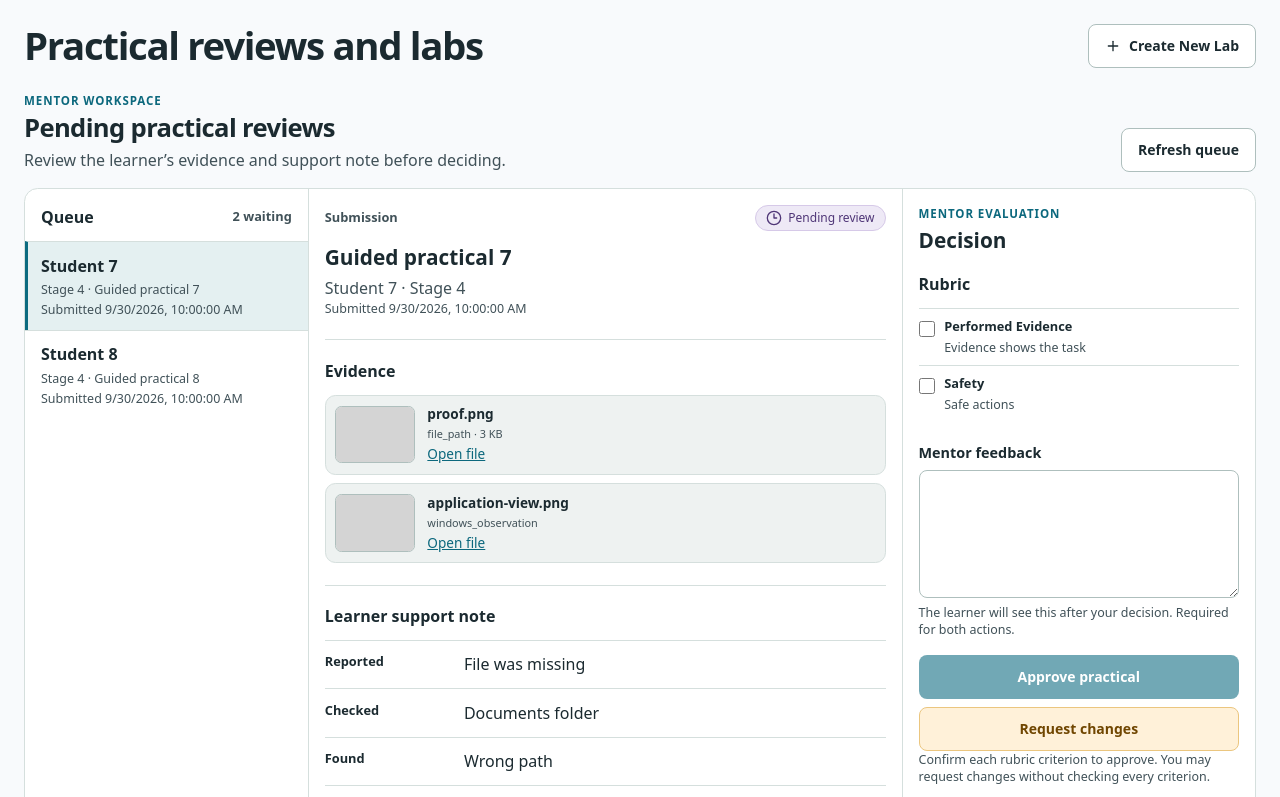
Scenario: mentor practical review workspace › keeps the selected learner fixed while a decision is in flight
Expected: the heading "Guided practical 7" is shown, [325, 243, 512, 271]
In the text box labelled "Mentor feedback": (1079, 534) [918, 470, 1239, 598], type "Feedback for seven"
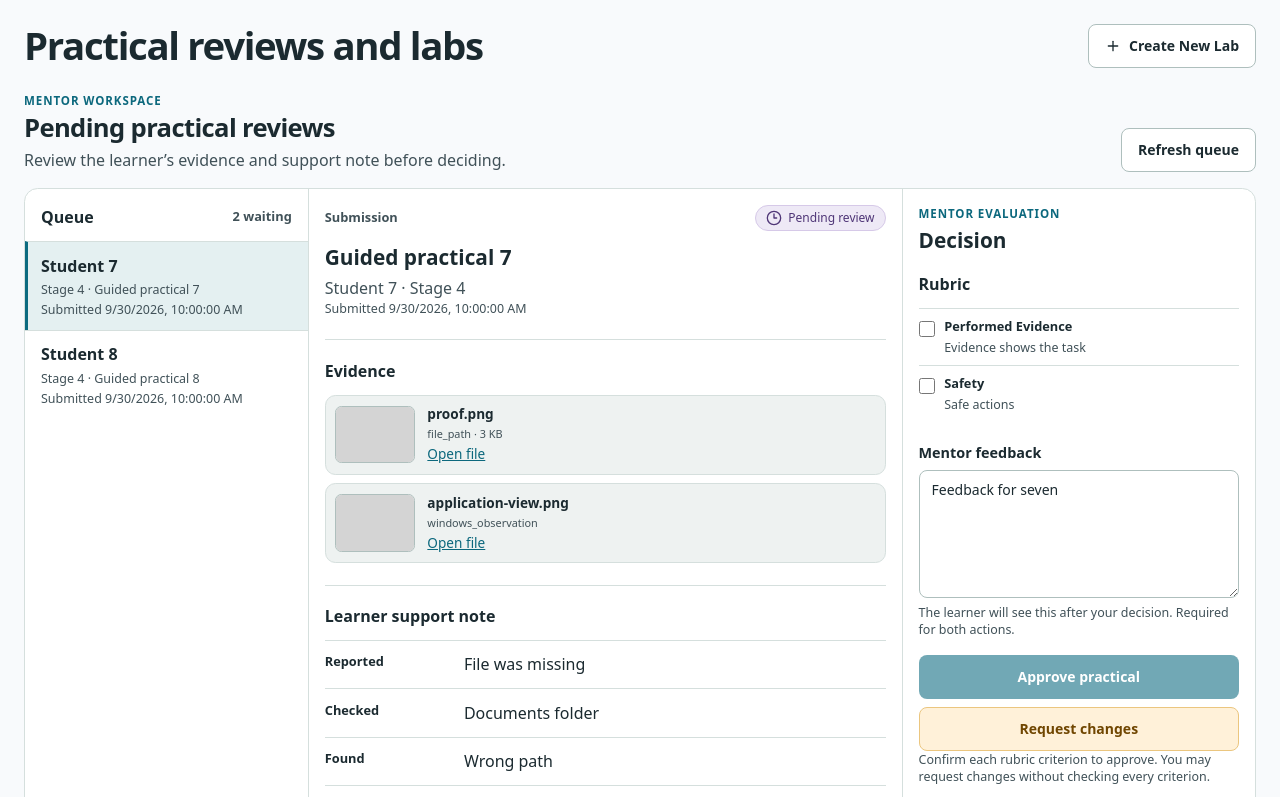
Click the button "Request changes": (1079, 729) [918, 707, 1239, 751]
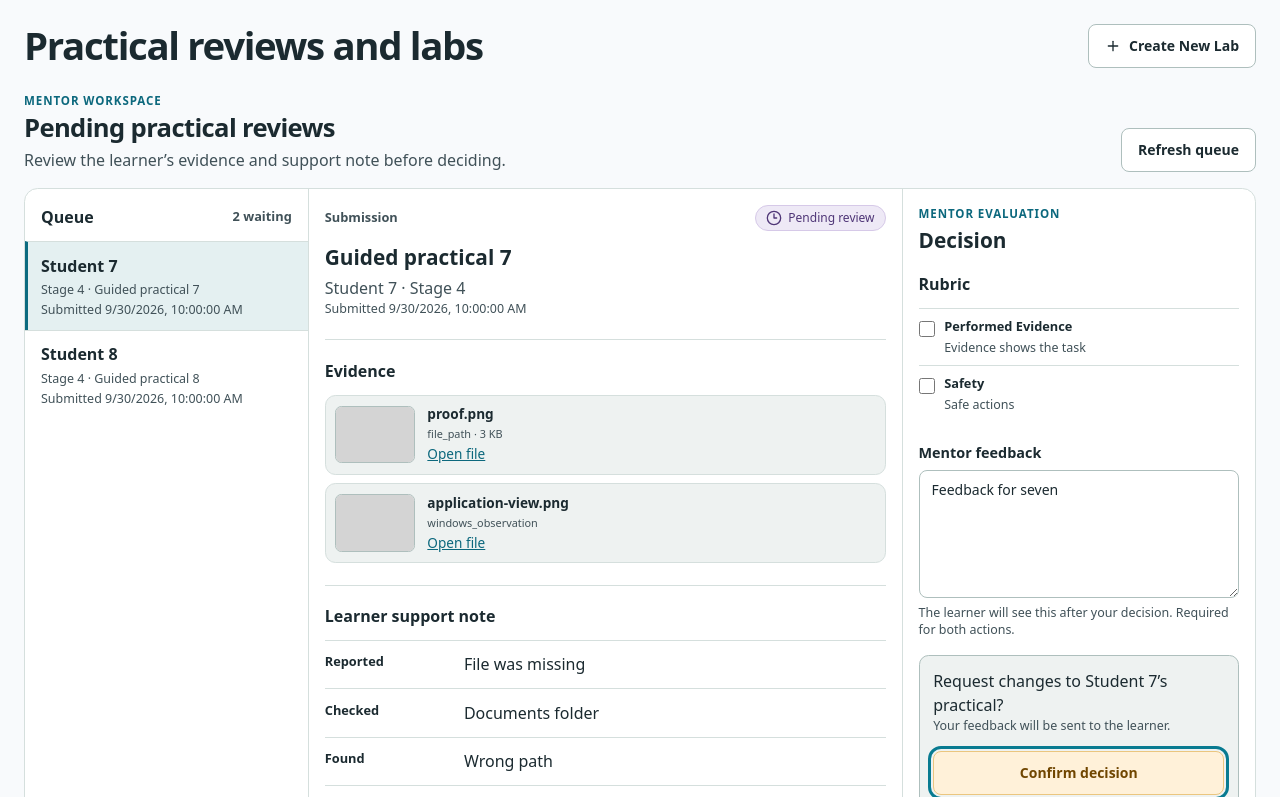
Click the button "Confirm decision": (1079, 773) [933, 751, 1224, 795]
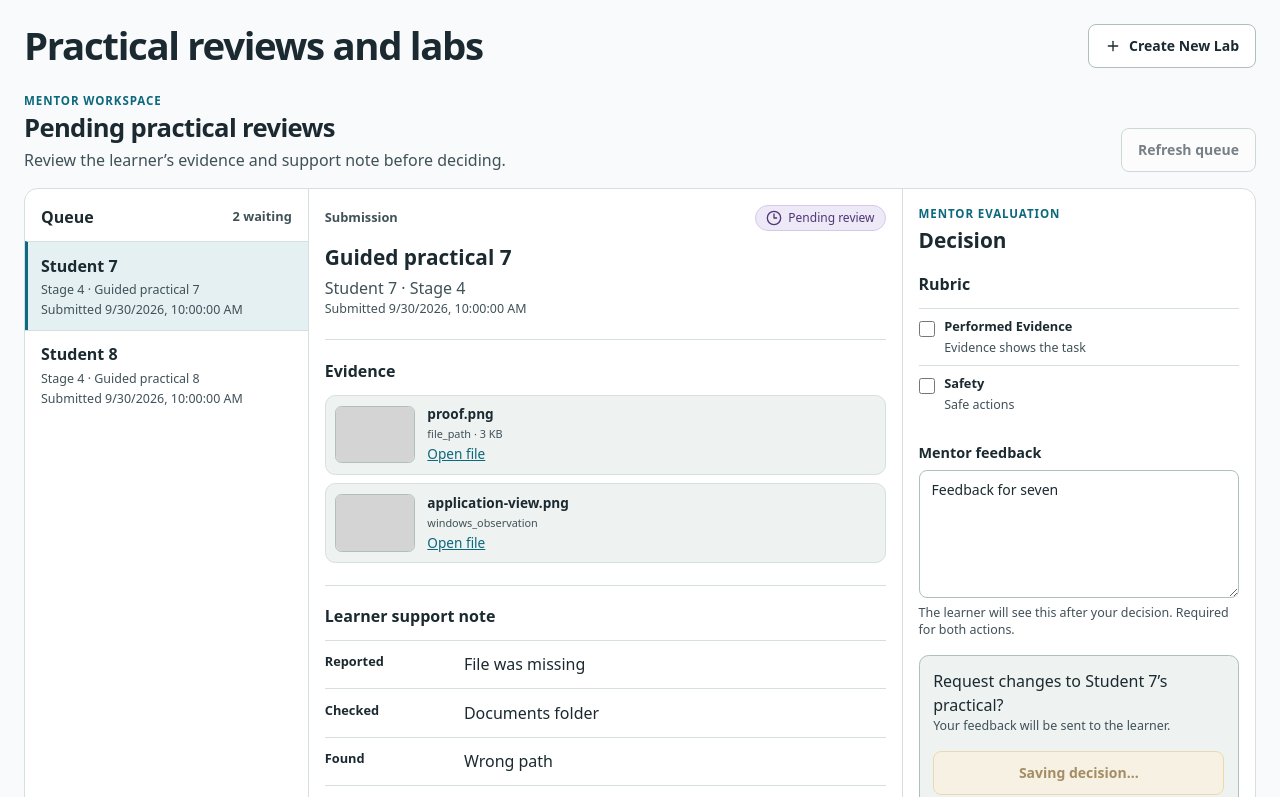
Click the button "Student 8": (166, 374) [25, 330, 308, 419]
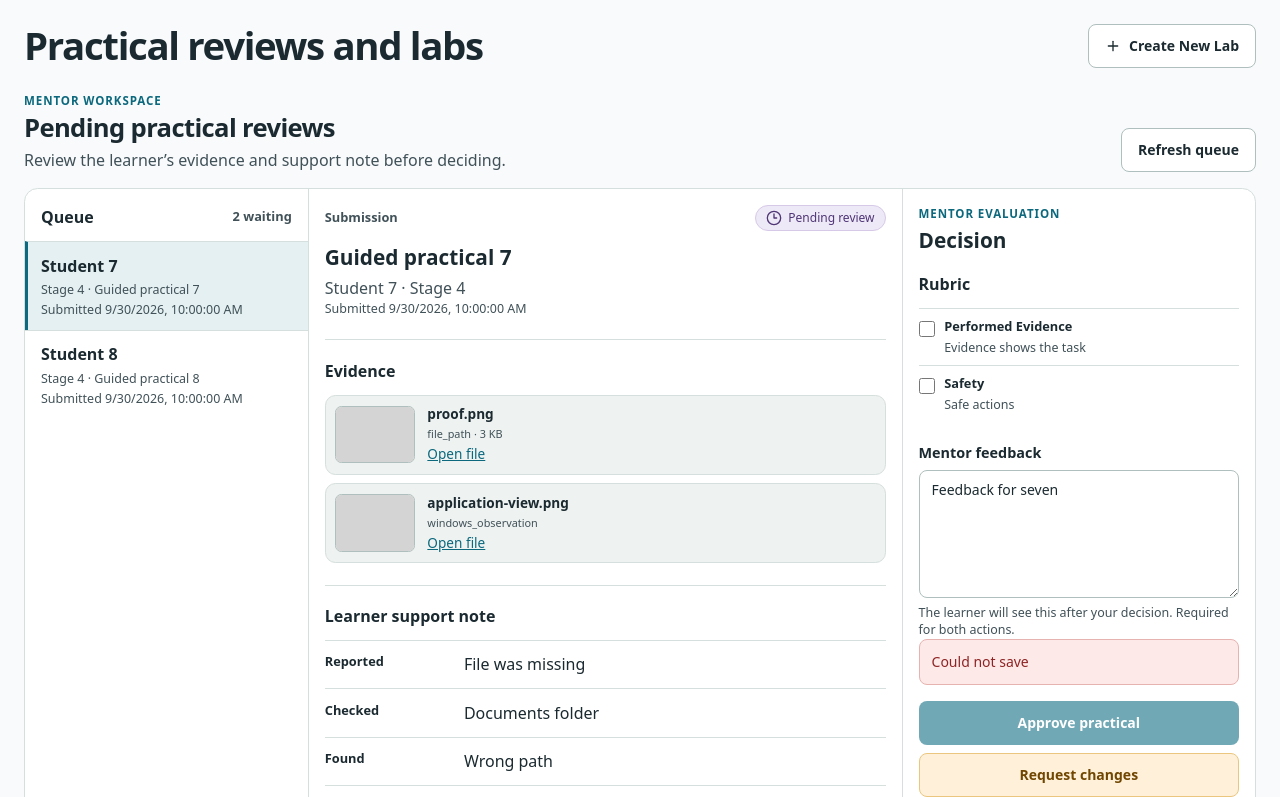
Expected: the heading "Guided practical 7" is shown, [325, 243, 512, 271]
Expected: the message reads "Could not save", [932, 652, 1029, 671]
